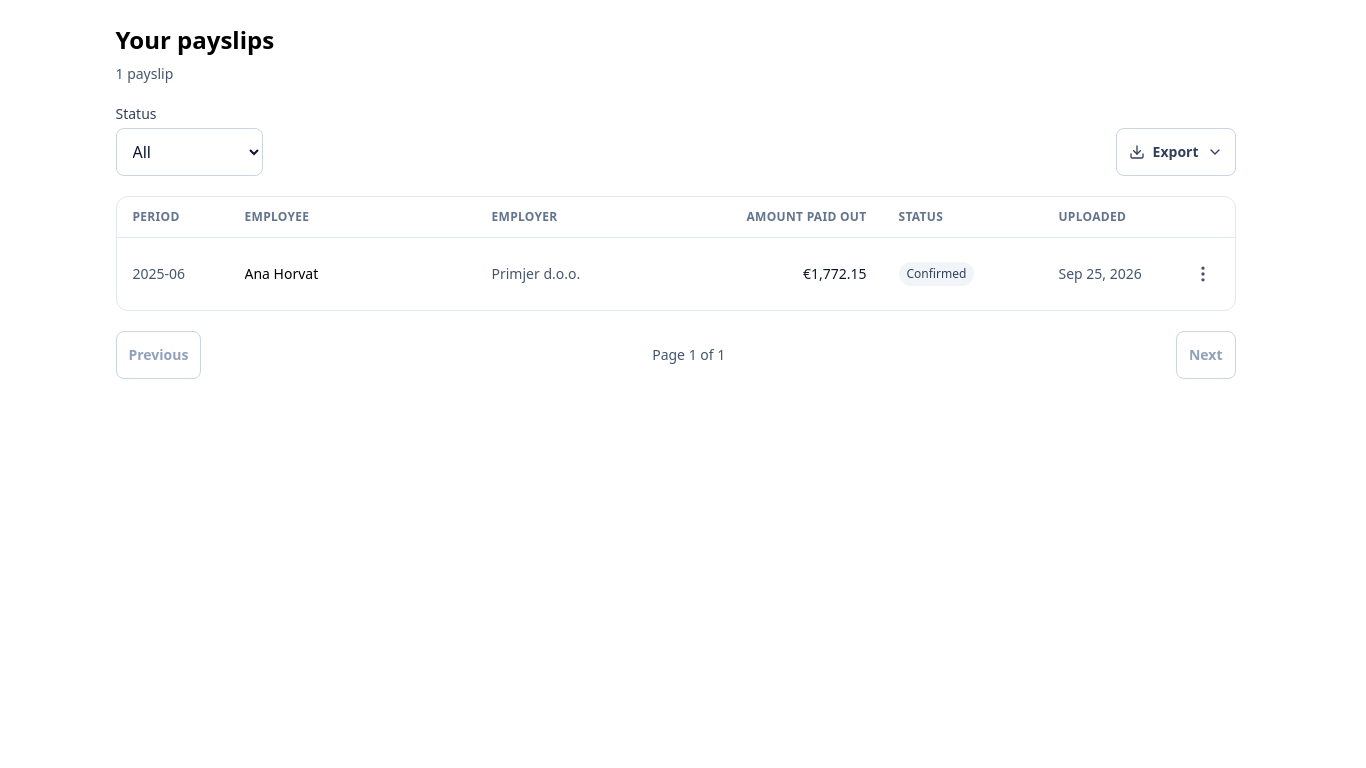
Test case: HistoryPage › closes the dialog on a failed delete, so the report is not behind it
What coordinates should you click on to do the following:
click the button named "Actions for Ana Horvat"
I would click on:
 (1202, 274)
Its box is [1178,250,1226,298].
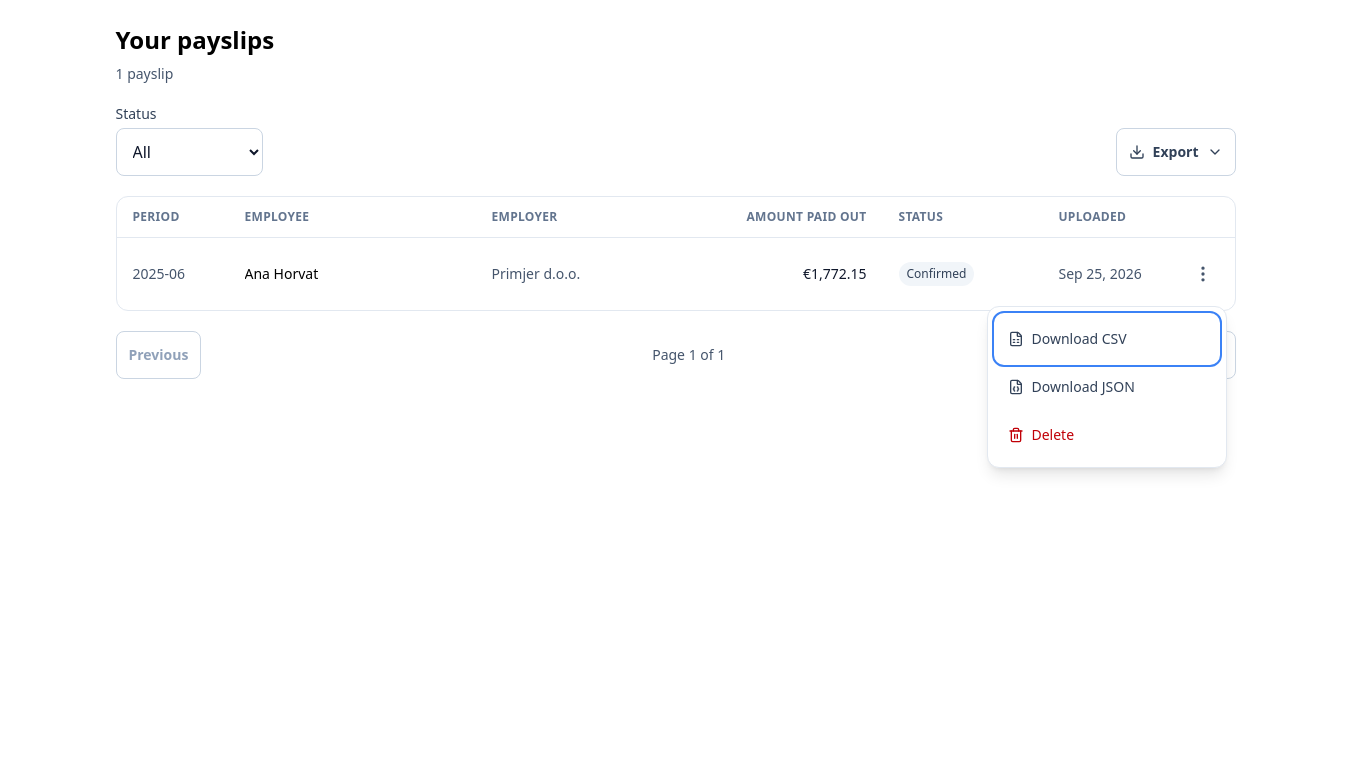
What coordinates should you click on to do the following:
click the button "Delete"
I would click on:
 (1106, 435)
Its box is [996,411,1218,459].
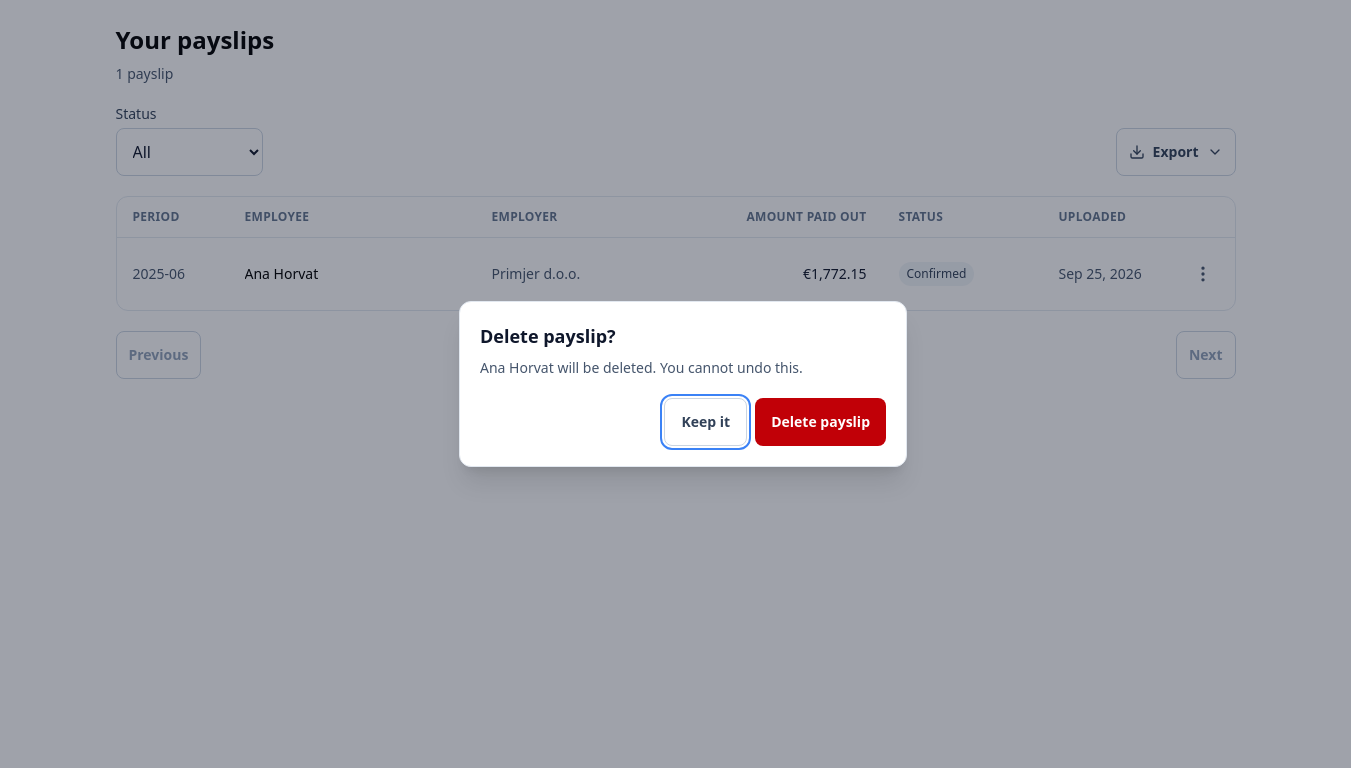
What coordinates should you click on to do the following:
click the button "Delete payslip"
I would click on:
 (821, 422)
Its box is [755,398,886,446].
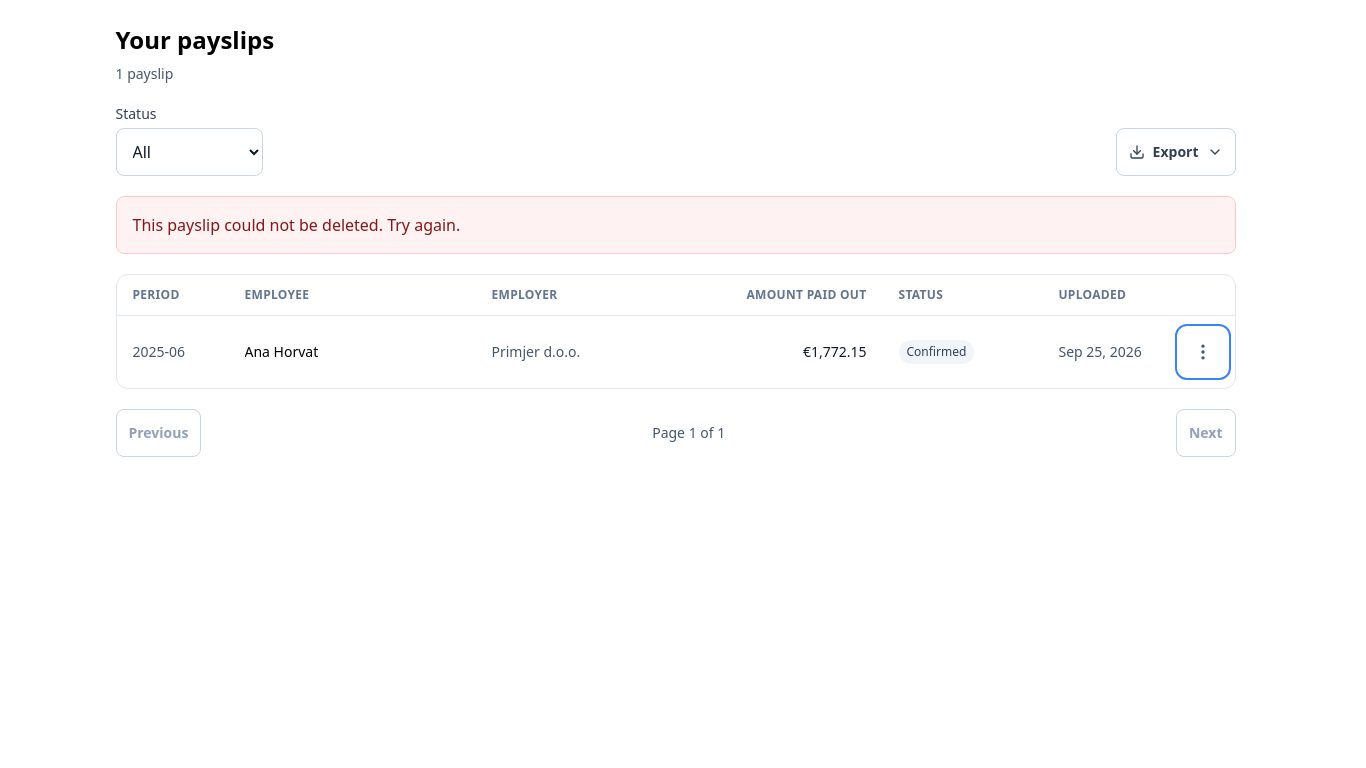
Expected: the text "This payslip could not be deleted. Try again." is shown, [132,214,460,236]
Expected: the dialog is gone
